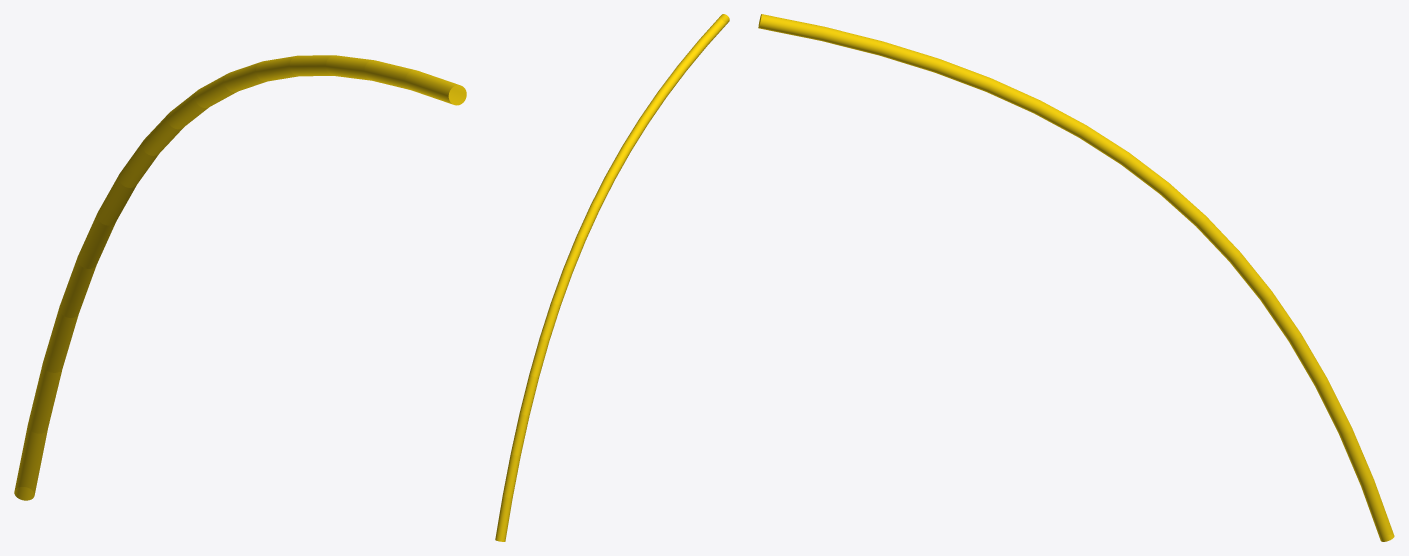
File: Event_421115418_track_0.fbx
The picture shows the model from 3 angles, left to right: view 1: azimuth 30°, elevation 25°; view 2: azimuth 150°, elevation 25°; view 3: azimuth 270°, elevation 25°; orthographic projection. The views are drawn at different scales.
Visible parts, largest first — view 1: Model; view 2: Model; view 3: Model.
Part boxes in pixels (bbox=[...]): Model: bbox=[14, 55, 466, 500]; Model: bbox=[495, 14, 729, 541]; Model: bbox=[758, 14, 1394, 541].
Size of the model in its own units: 0.0587 by 1.57 by 1.73.
